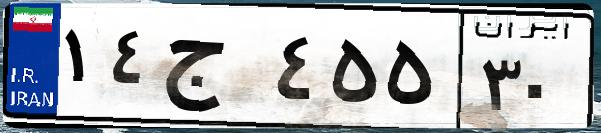0: (525, 38, 570, 115)
1: (57, 26, 110, 100)
3: (475, 38, 525, 113)
4: (270, 28, 330, 110), (110, 28, 158, 98)
5: (385, 28, 445, 110), (330, 28, 385, 110)
ج: (158, 20, 270, 120)
